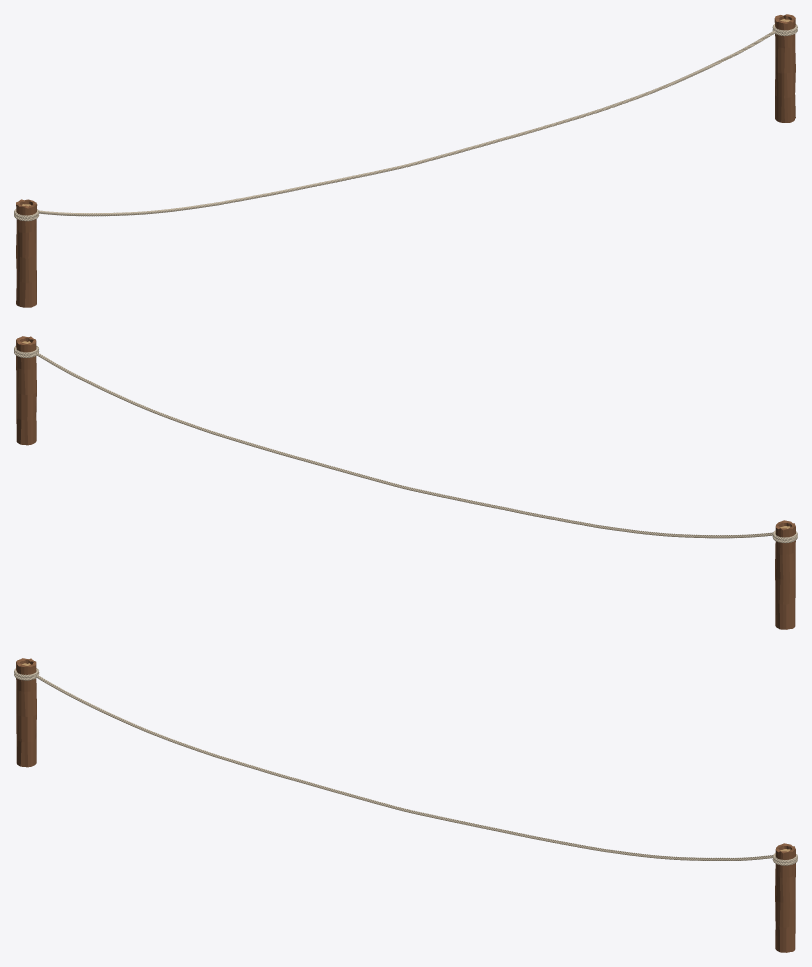
File: NewRope.fbx
3 views of the same model, one above another, from view 1: azimuth 30°, elevation 25°; view 2: azimuth 150°, elevation 25°; view 3: azimuth 330°, elevation 25° (orthographic).
Parts seen in each view (by area): view 1: Rope_Barrier; view 2: Rope_Barrier; view 3: Rope_Barrier.
Boxes of the visible parts, x1=… form: Rope_Barrier: x1=14, y1=14, x2=797, y2=307; Rope_Barrier: x1=14, y1=336, x2=797, y2=629; Rope_Barrier: x1=14, y1=658, x2=797, y2=952.
Size of the model in its own units: 1635 by 203 by 45.82.
